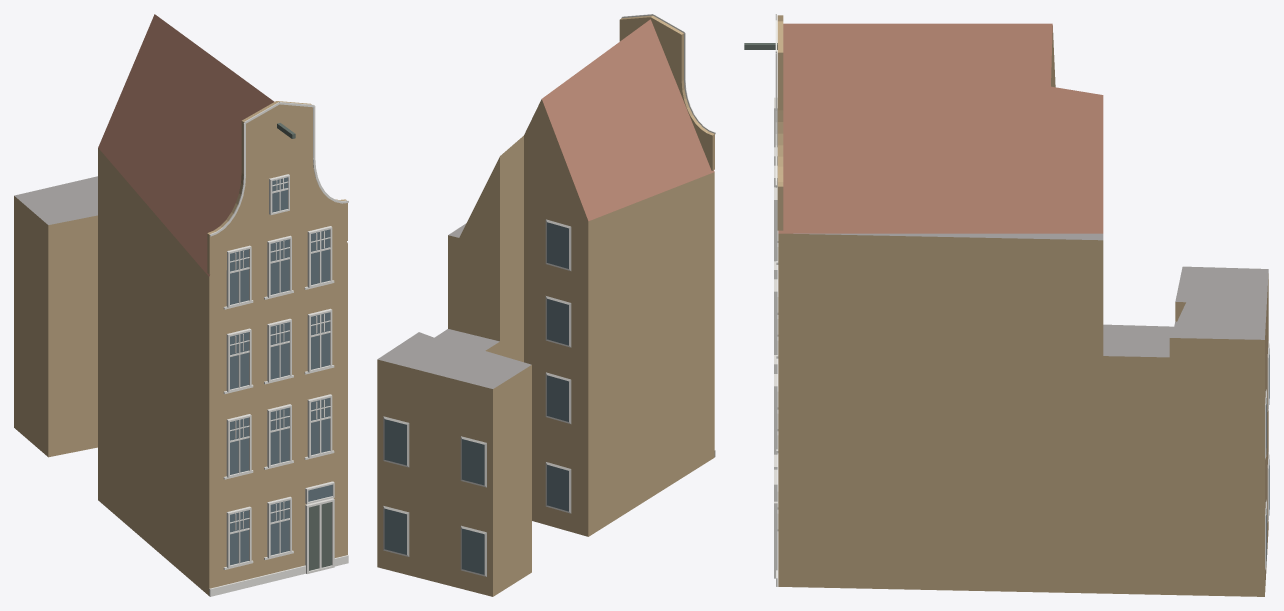
The model's file is chunk-face-groenburgwal-46-56-h1.glb.
3 views of the same model, side by side, from view 1: azimuth 30°, elevation 25°; view 2: azimuth 150°, elevation 25°; view 3: azimuth 270°, elevation 25° (orthographic). The views are drawn at different scales.
Parts seen in each view (by area): view 1: face-groenburgwal-46-56-h1; view 2: face-groenburgwal-46-56-h1; view 3: face-groenburgwal-46-56-h1.
Part boxes in pixels (x1,y1,x2,y2): face-groenburgwal-46-56-h1: (14, 14, 348, 596); face-groenburgwal-46-56-h1: (377, 14, 715, 596); face-groenburgwal-46-56-h1: (744, 14, 1269, 596).
Bounding box in the file's own units: 6.52 × 18.92 × 17.02.
